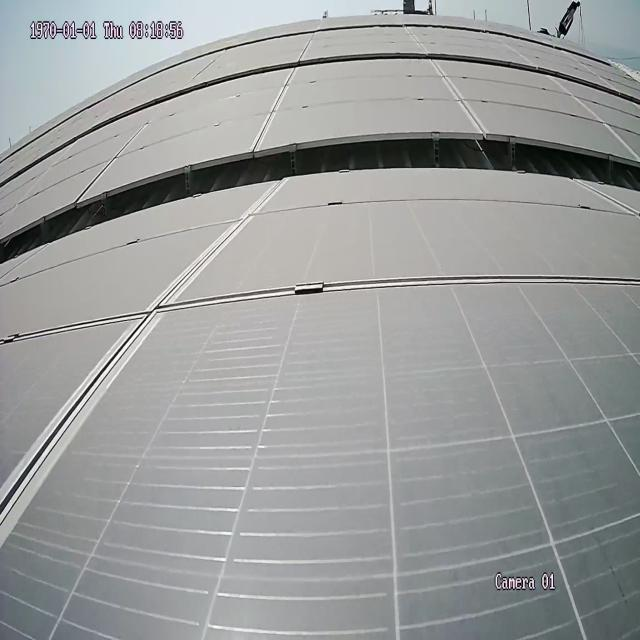interior panel: (0, 188, 573, 544), (79, 125, 150, 189), (250, 78, 295, 144), (431, 69, 483, 123)
outher panel: (2, 132, 637, 266)
